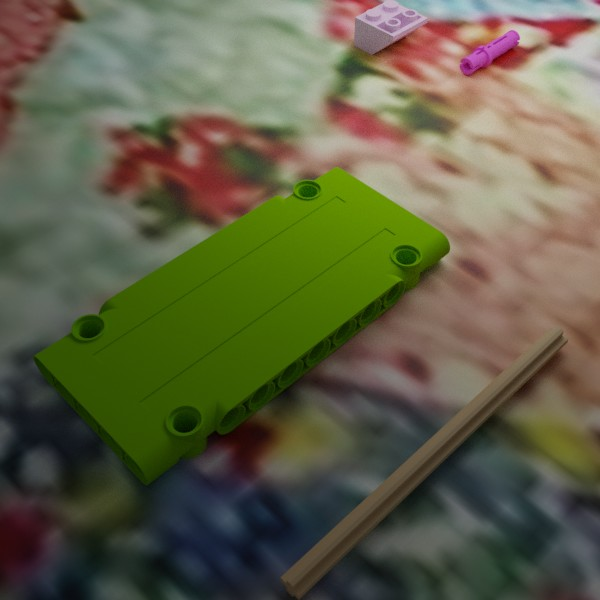lego: (33, 167, 450, 485), (279, 326, 568, 599), (353, 0, 427, 54), (459, 29, 520, 74)
